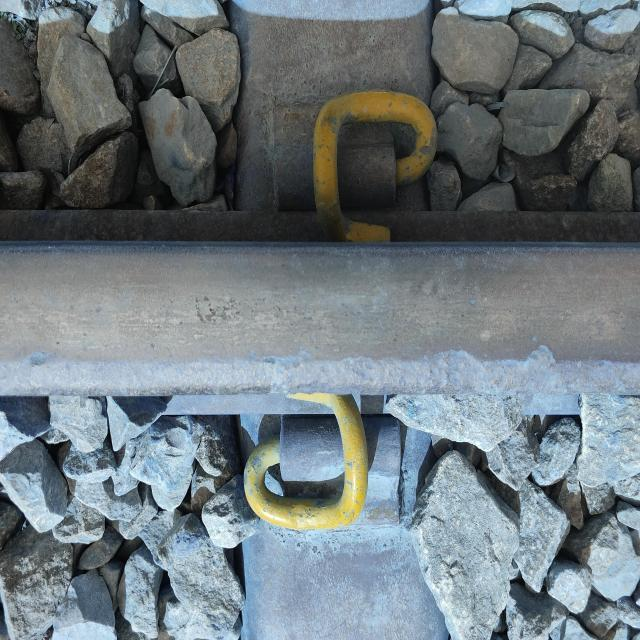Good Fasteners: (224, 367, 431, 558), (250, 76, 443, 246)
